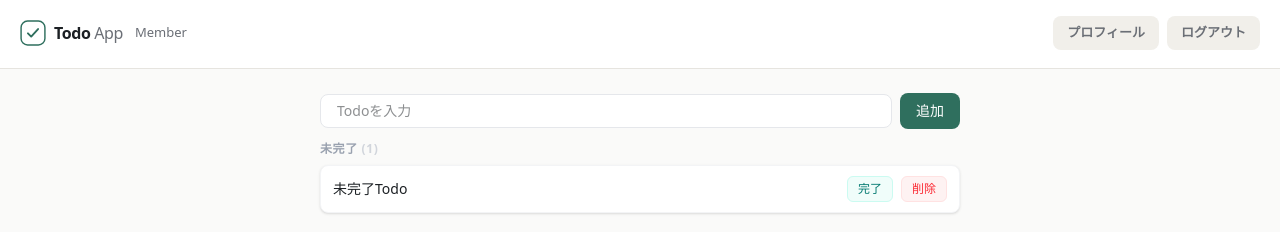
Scenario: TodoApp › 完了ボタンクリックでTodoが完了セクションに移動する
Click the button "完了" at [870, 188], box [847, 176, 893, 202]
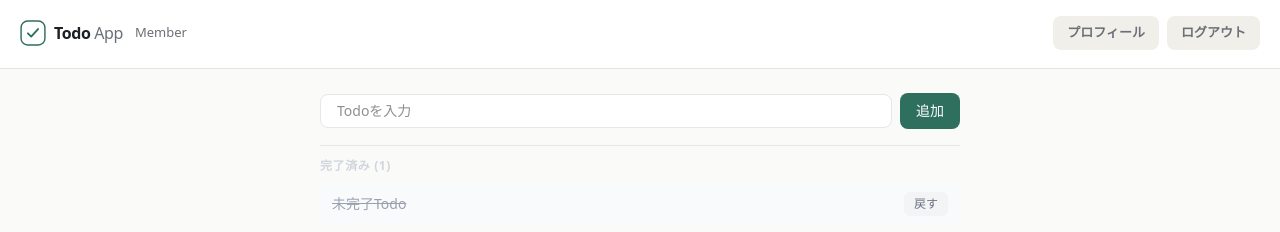
Now the button "戻す" is shown, box [904, 192, 948, 216]
